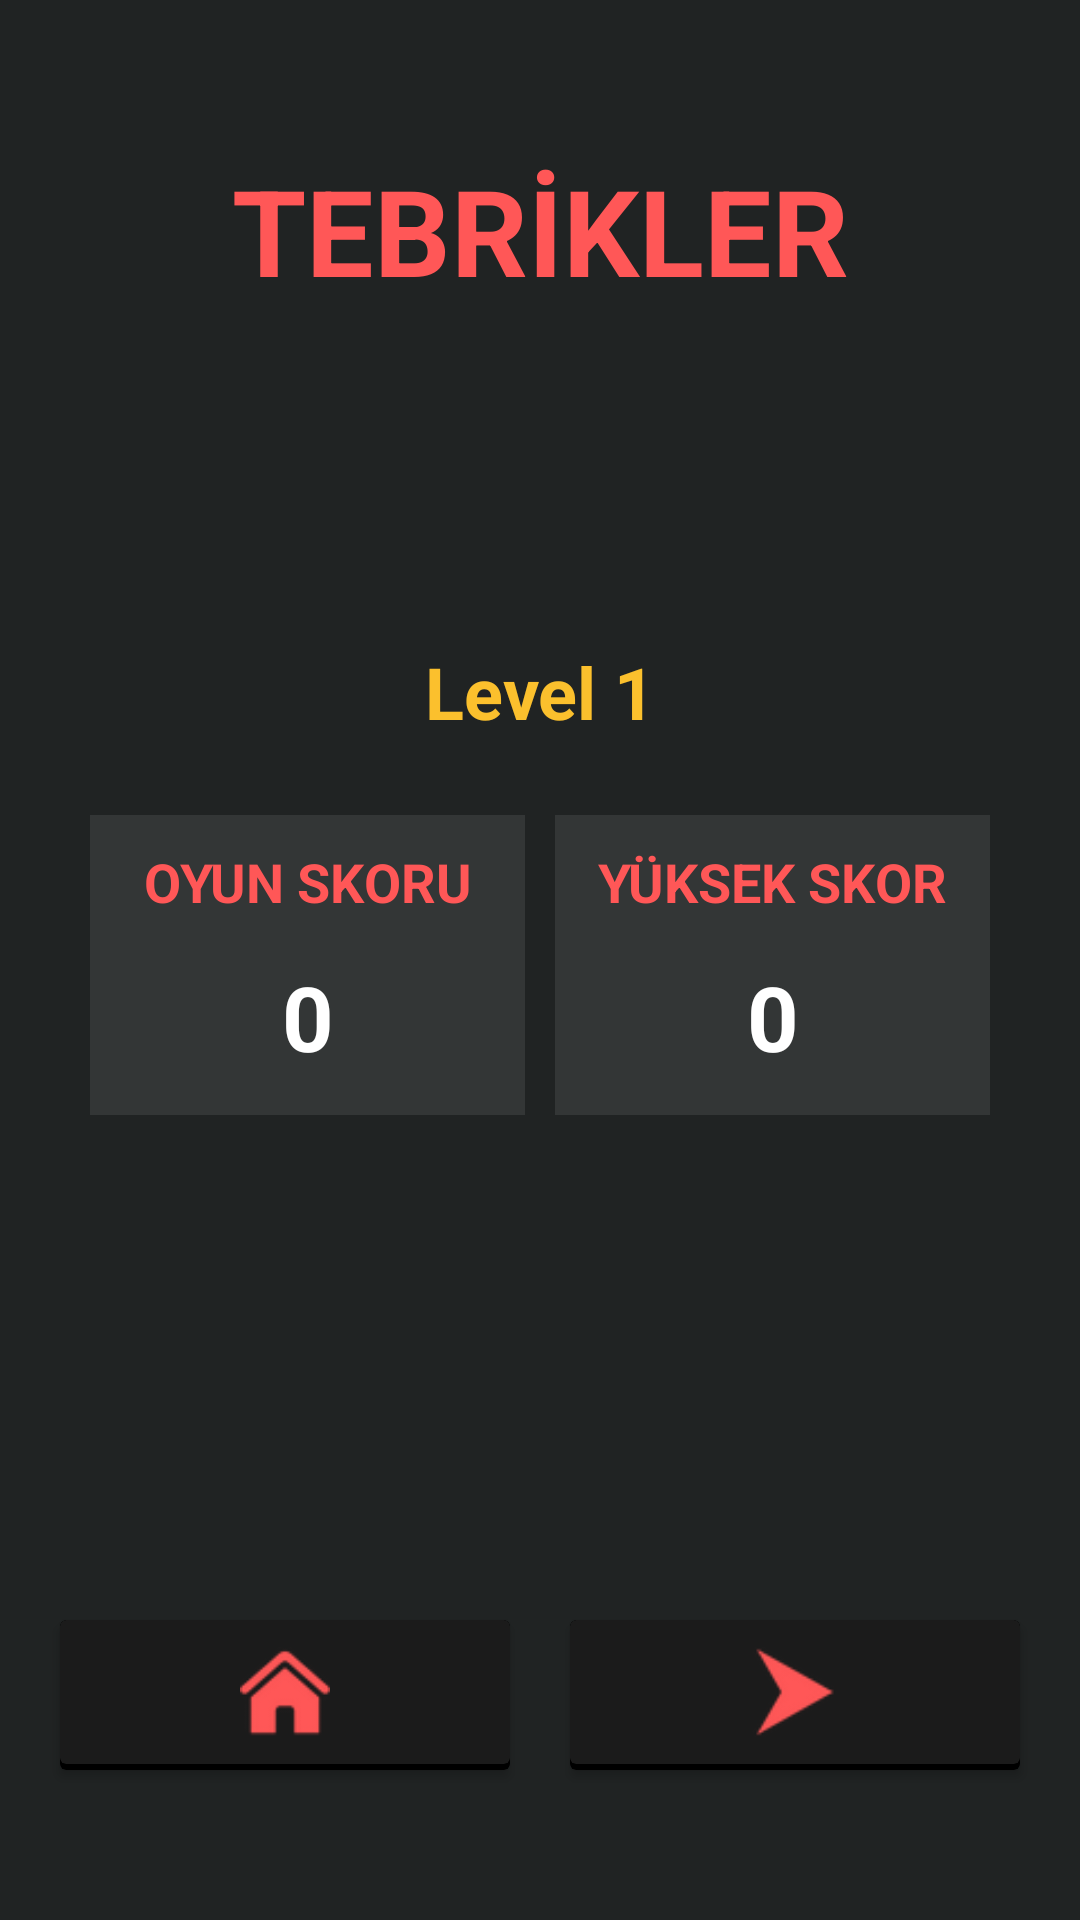

Icon bounding boxes for this 1080px×1920px phone screenshot, format Rect(x1, y1, x2, y2):
home: Rect(240, 1651, 330, 1735)
next: Rect(756, 1649, 833, 1735)
